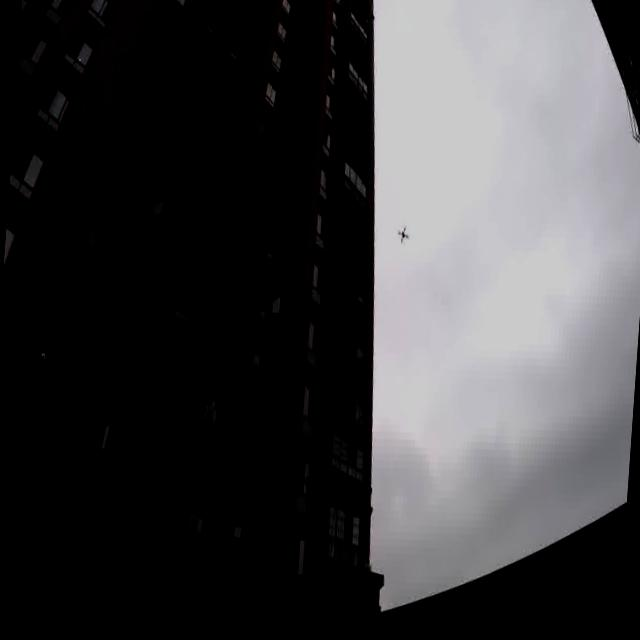drone: (382, 203, 414, 253)
